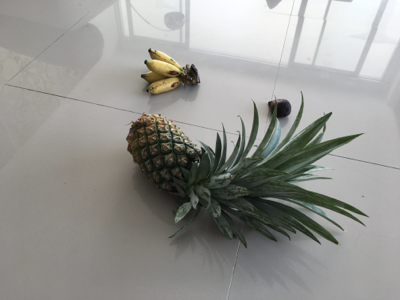banana: (141, 47, 201, 96)
pineapple: (127, 96, 367, 249)
snake fruit: (267, 97, 292, 117)
